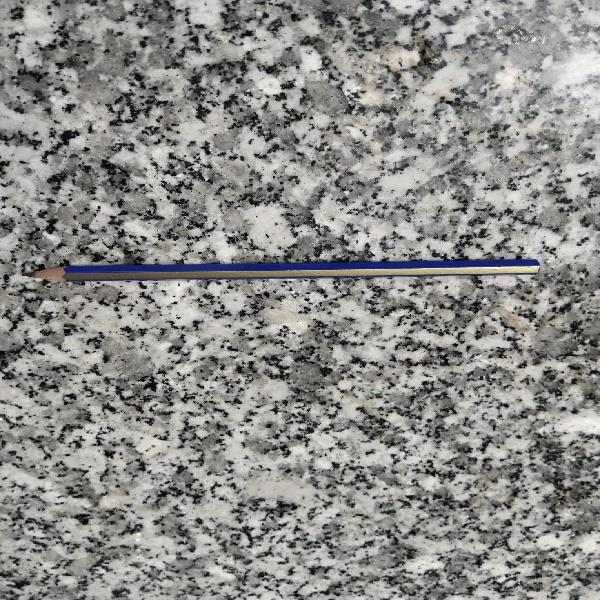pencil: (26, 253, 545, 282)
